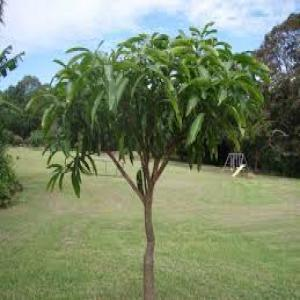Tree: (34, 21, 268, 298)
